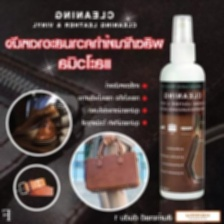cleaning_solution: (157, 12, 208, 201)
